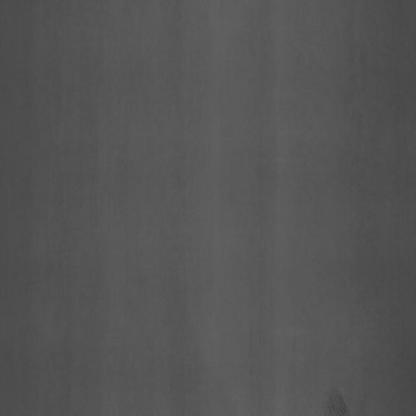water_spot: (324, 370, 362, 415)
